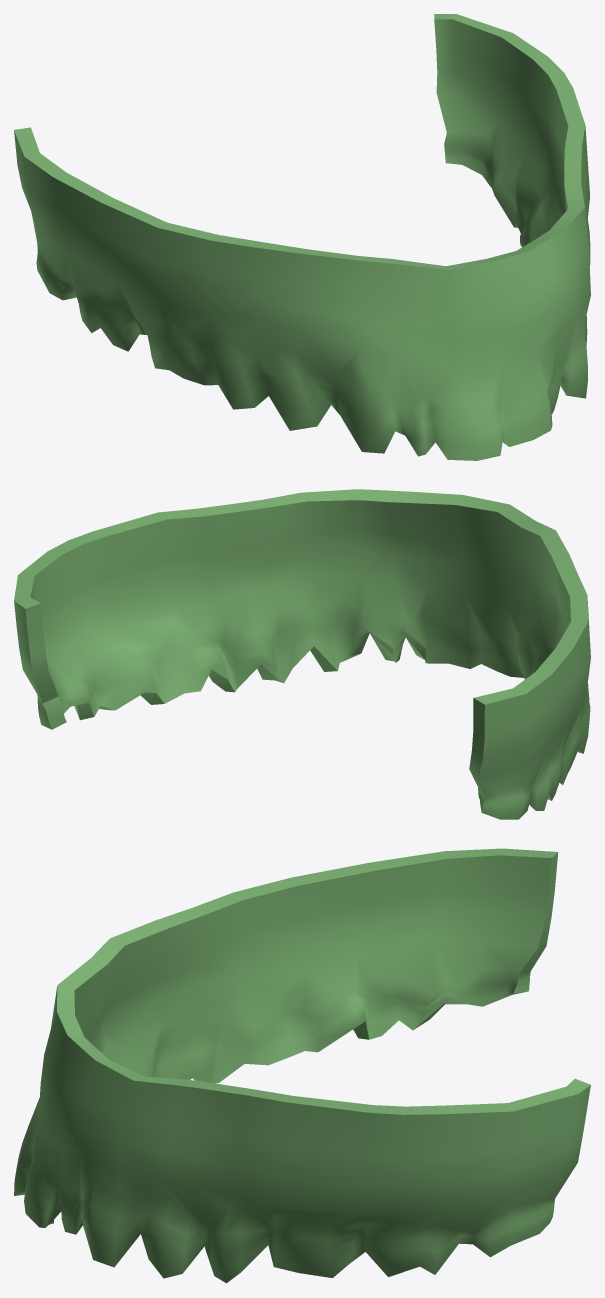
The model's file is SM_sup_jaw.fbx.
The picture shows the model from 3 angles, top to bottom: view 1: azimuth 30°, elevation 25°; view 2: azimuth 150°, elevation 25°; view 3: azimuth 270°, elevation 25°; orthographic projection. The views are drawn at different scales.
Visible parts, largest first — view 1: Sup_Jaw; view 2: Sup_Jaw; view 3: Sup_Jaw.
Part boxes in pixels (x1,y1,x2,y2): Sup_Jaw: [14, 14, 590, 460]; Sup_Jaw: [14, 489, 590, 819]; Sup_Jaw: [14, 848, 590, 1283].
Size of the model in its own units: 173 by 68.81 by 160.
